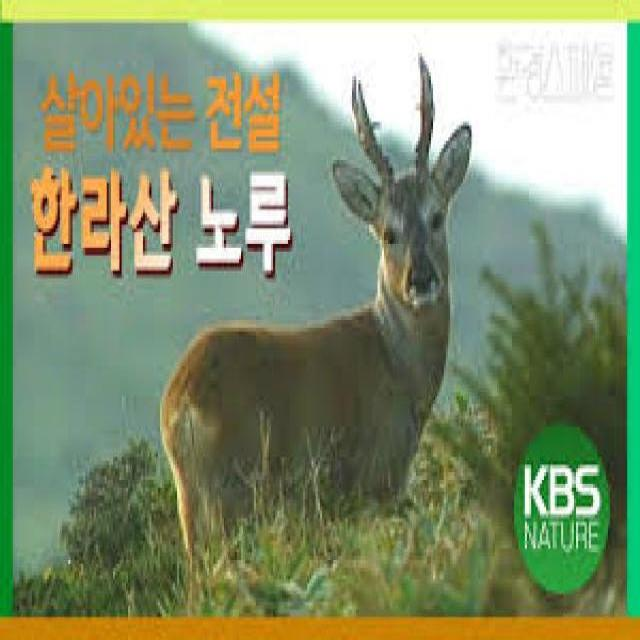deer: (318, 57, 476, 495)
